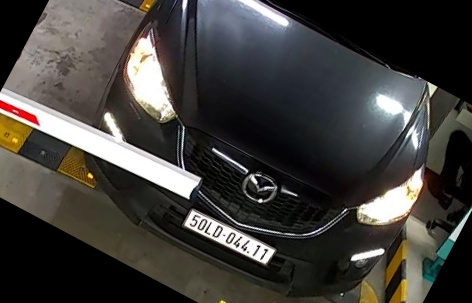plate: (181, 206, 281, 267)
